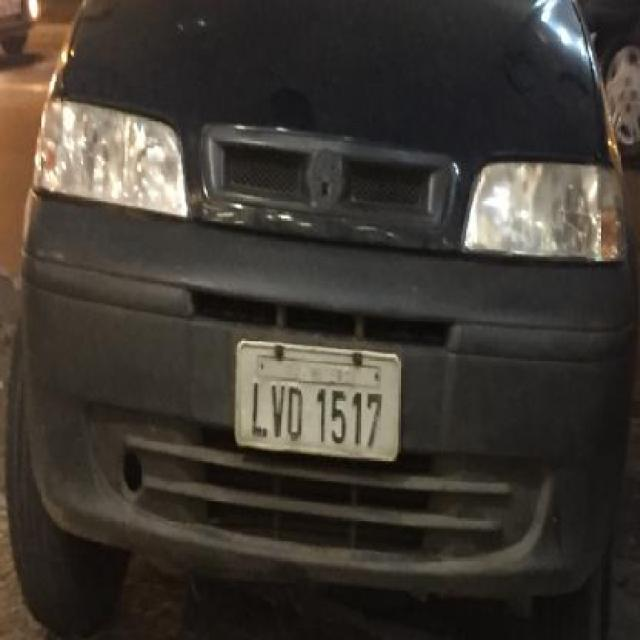old_plate: (226, 336, 406, 466)
